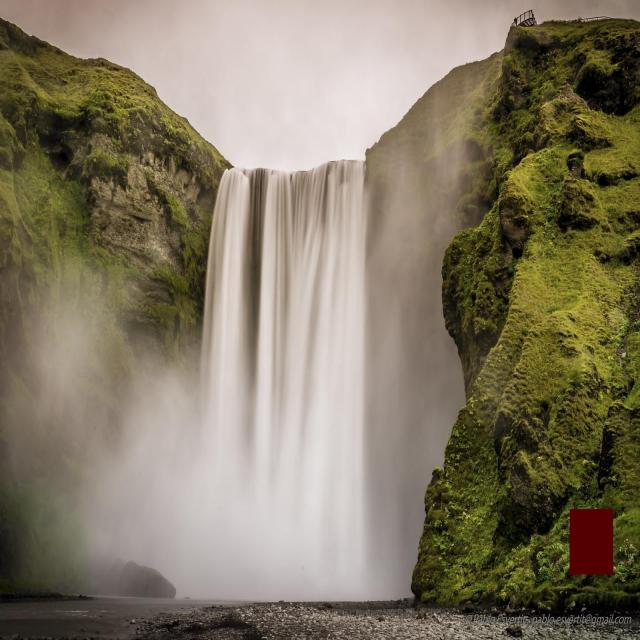RedSquare: (568, 506, 616, 578)
